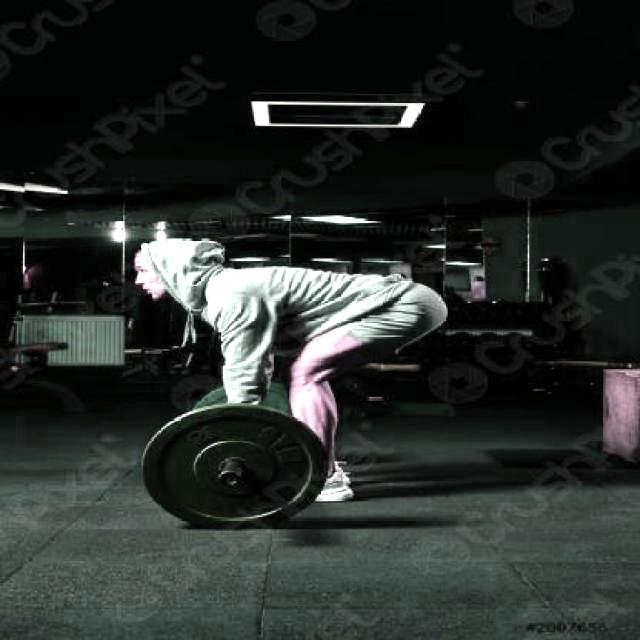barbell: (133, 400, 342, 535)
